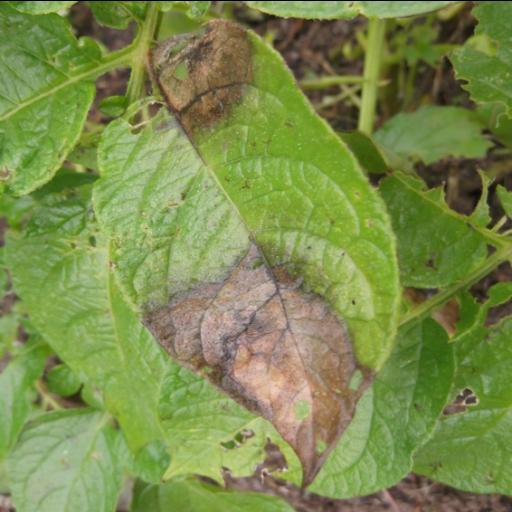Late Blight: (92, 16, 406, 486)
